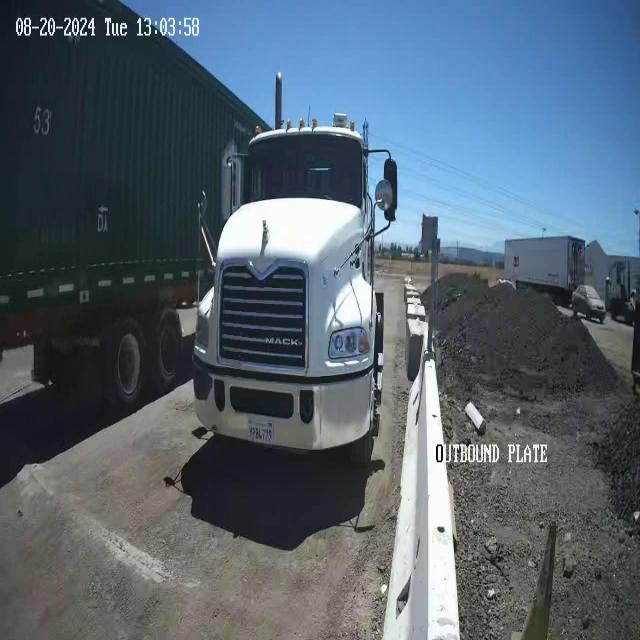TRUCK_IN: (192, 71, 398, 468)
